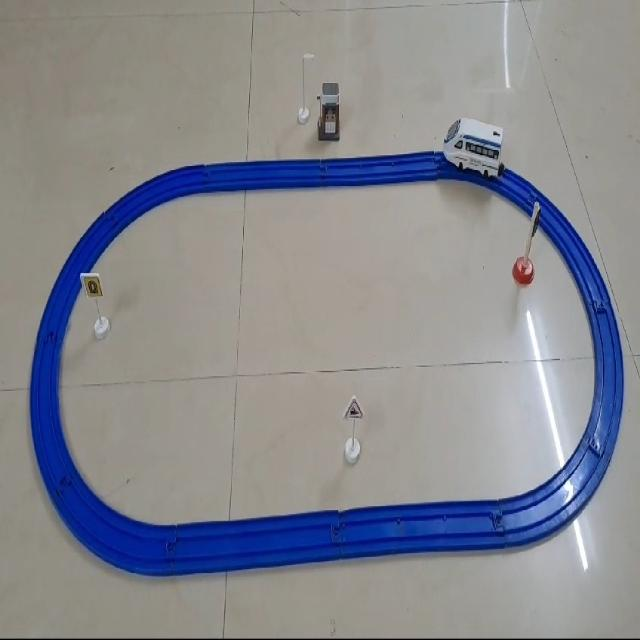bus: (442, 115, 505, 180)
